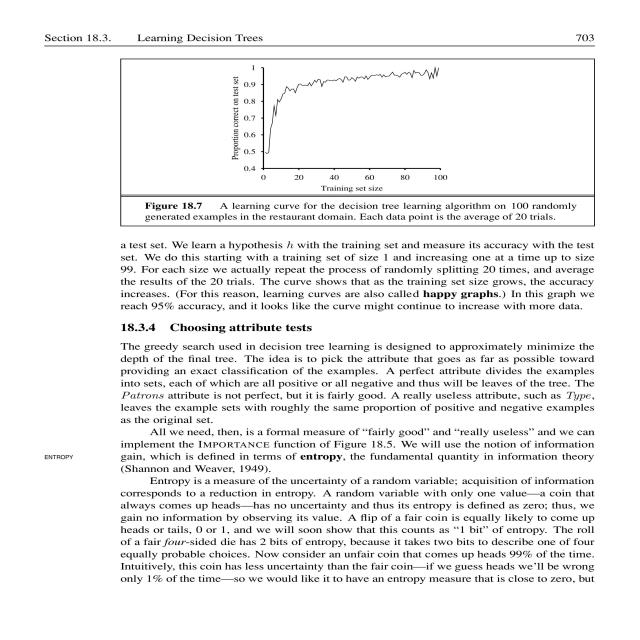diagram: (109, 54, 610, 228)
